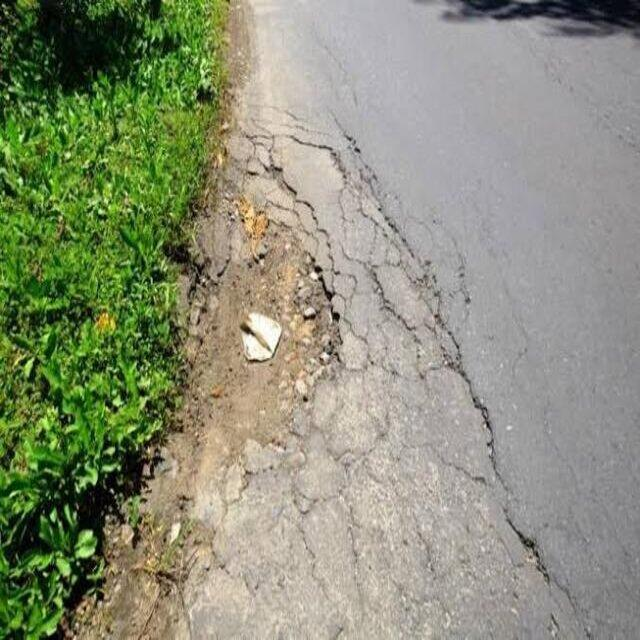Pinggir: (22, 66, 590, 607)
